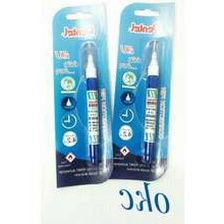book: (101, 0, 177, 183), (51, 0, 115, 190)
correction_fluid: (78, 39, 103, 168), (140, 37, 163, 165)
